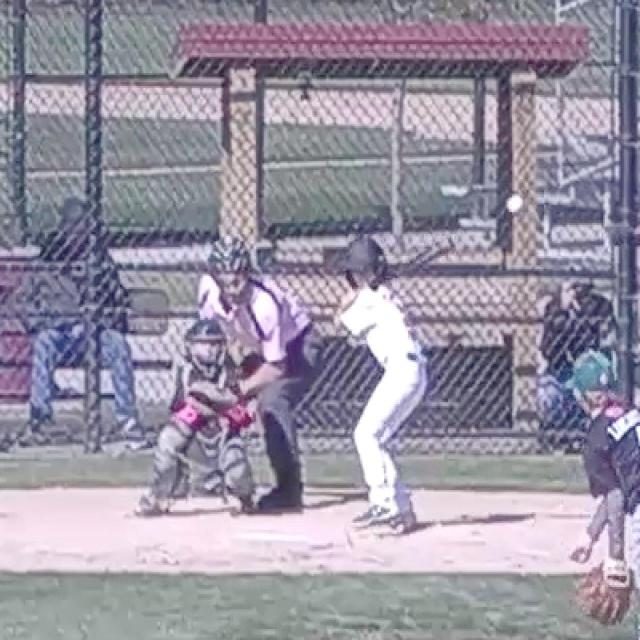baseball: (507, 196, 523, 212)
